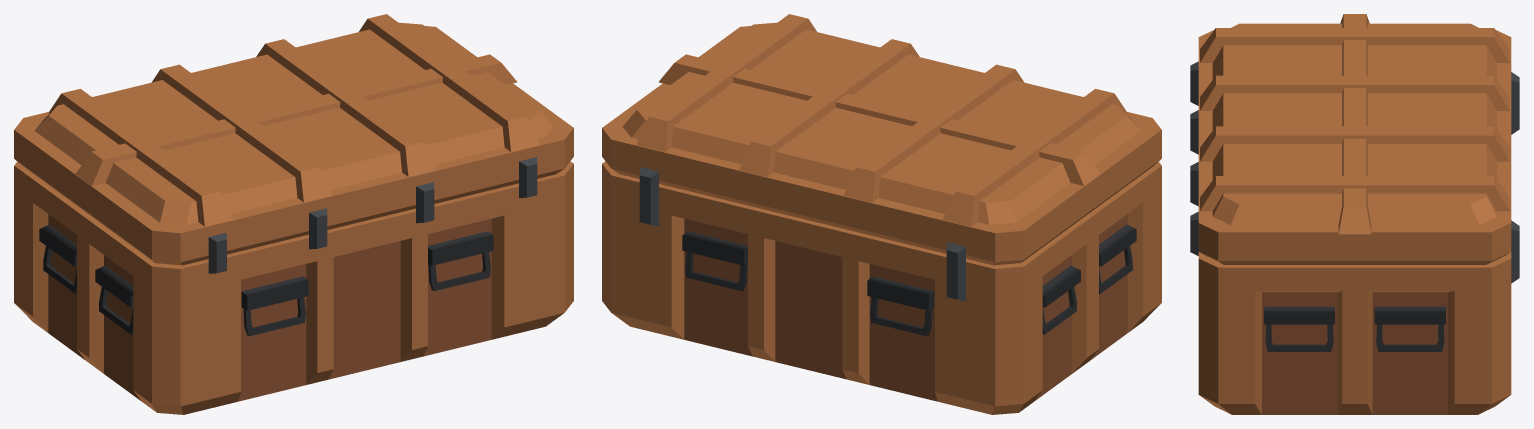
The model's file is SM_Prop_Crate_Plastic_02.fbx.
3 views of the same model, side by side, from view 1: azimuth 30°, elevation 25°; view 2: azimuth 150°, elevation 25°; view 3: azimuth 270°, elevation 25° (orthographic).
Parts seen in each view (by area): view 1: SM_Prop_Crate_Plastic_Lid_02, SM_Prop_Crate_Plastic_02; view 2: SM_Prop_Crate_Plastic_Lid_02, SM_Prop_Crate_Plastic_02; view 3: SM_Prop_Crate_Plastic_Lid_02, SM_Prop_Crate_Plastic_02.
Boxes of the visible parts, x1,y1,x2,y2 form: SM_Prop_Crate_Plastic_Lid_02: (14, 14, 573, 273); SM_Prop_Crate_Plastic_02: (14, 161, 573, 414); SM_Prop_Crate_Plastic_Lid_02: (602, 14, 1161, 265); SM_Prop_Crate_Plastic_02: (602, 161, 1161, 414); SM_Prop_Crate_Plastic_Lid_02: (1190, 14, 1511, 264); SM_Prop_Crate_Plastic_02: (1198, 72, 1519, 414).
Bounding box in the file's own units: 121 × 58.2 × 81.93.
